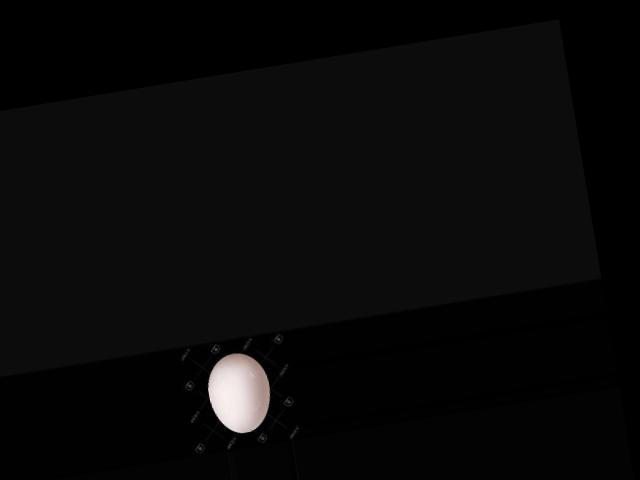egg: (202, 349, 274, 436)
